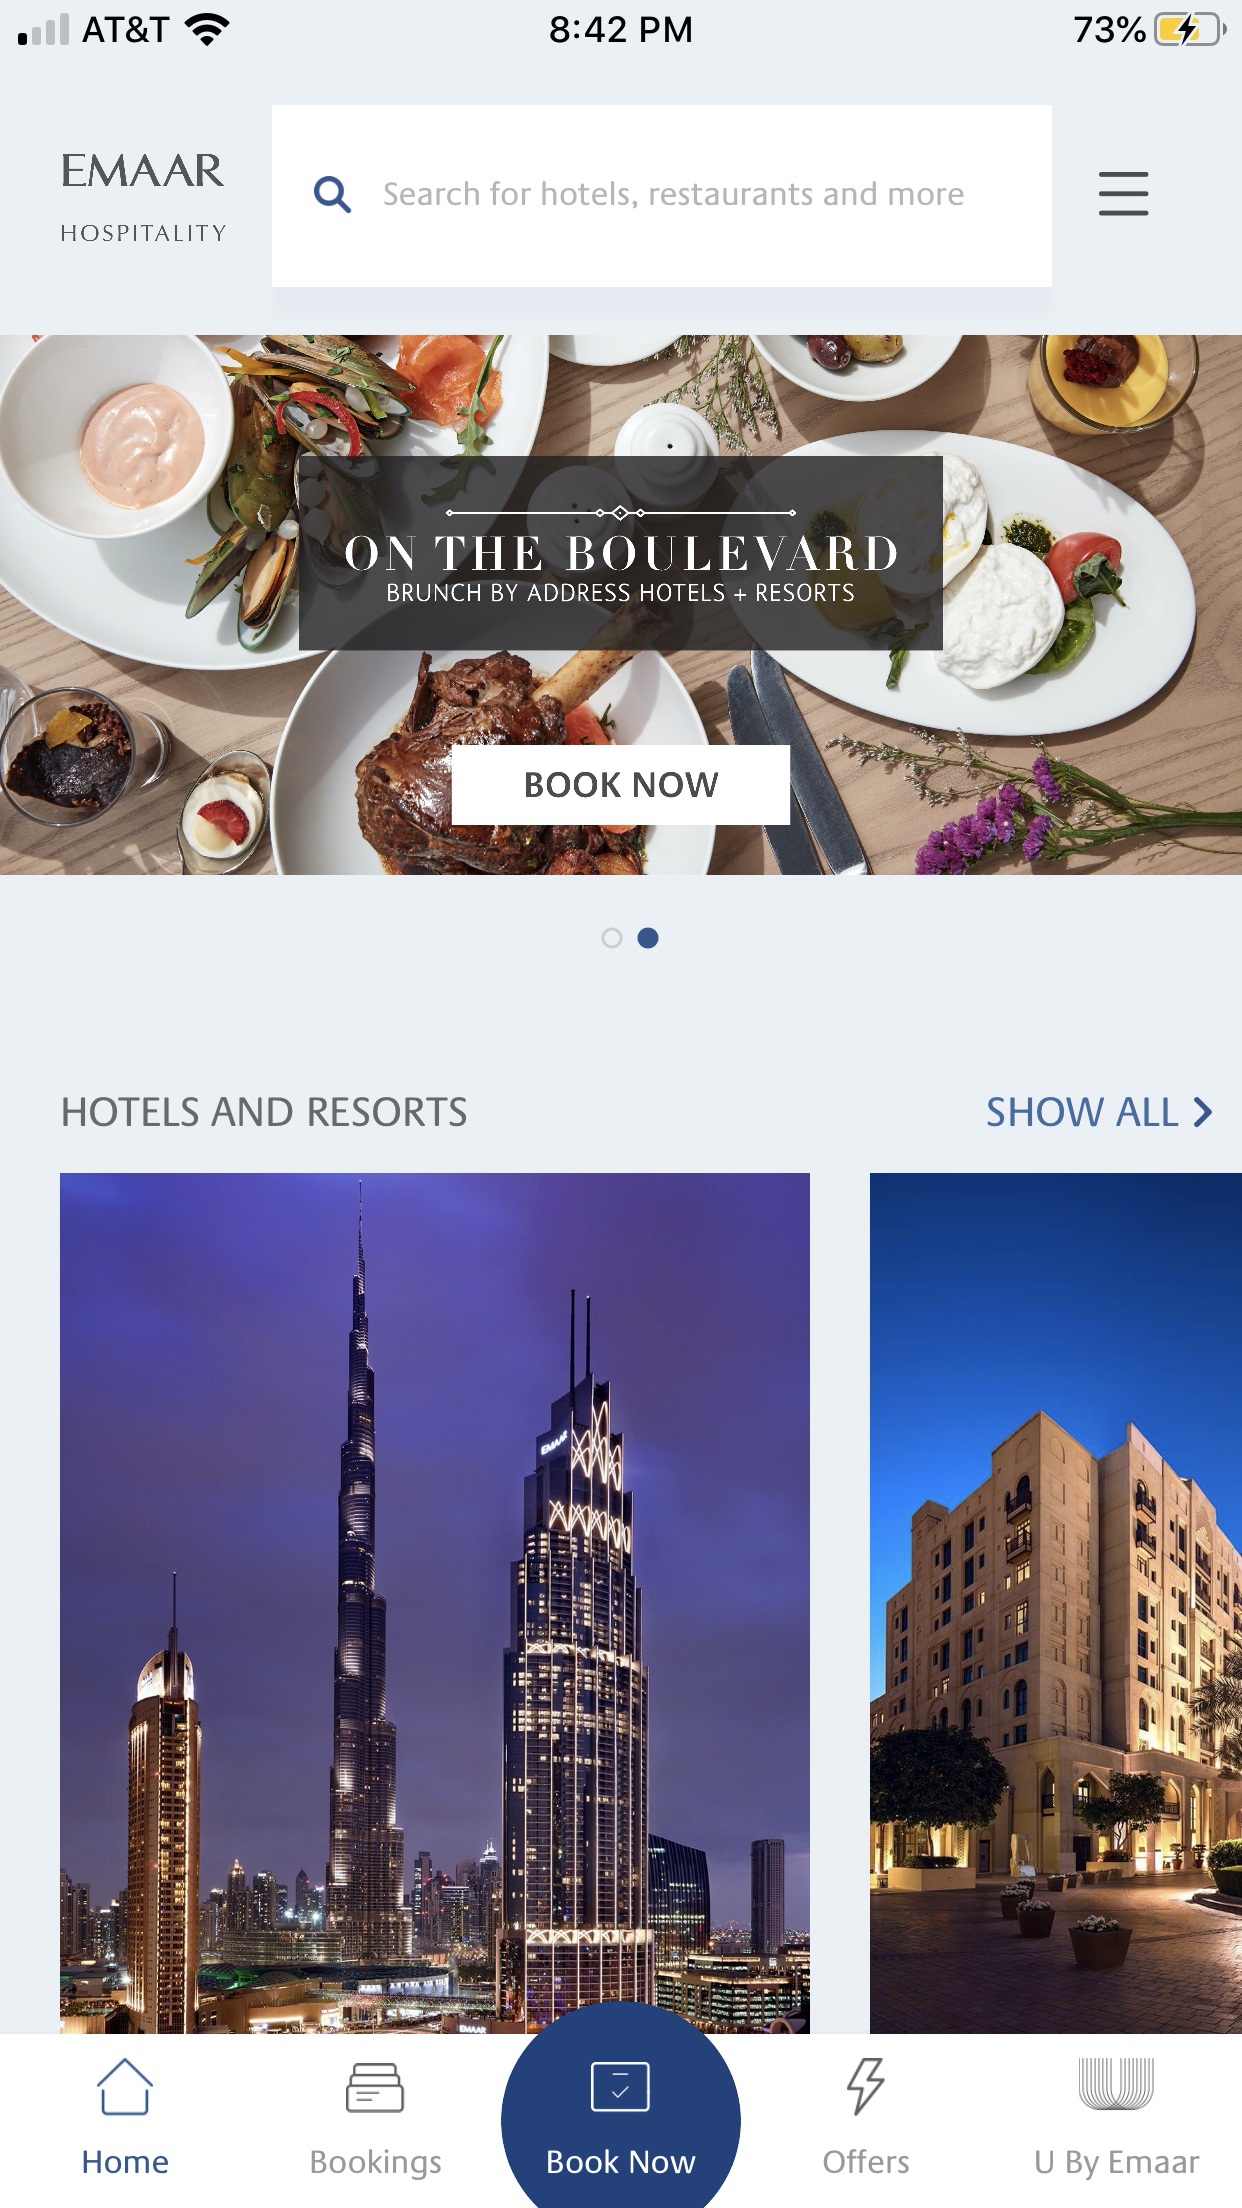EditText: (273, 106, 1052, 288)
Icon: (97, 2058, 155, 2115), (591, 2061, 651, 2112), (1099, 173, 1149, 217), (314, 177, 352, 214), (1193, 1096, 1212, 1128)
Image: (2, 337, 1242, 877), (61, 1174, 810, 2034), (870, 1174, 1242, 2034), (1080, 2058, 1154, 2111), (347, 2062, 406, 2112), (848, 2056, 886, 2115)
PageIndicator: (601, 927, 660, 949)
Text: (385, 182, 964, 209), (64, 1096, 467, 1128), (987, 1096, 1178, 1128), (64, 155, 224, 187), (1036, 2150, 1200, 2181), (311, 2147, 441, 2181), (547, 2149, 698, 2175), (64, 226, 227, 243), (823, 2149, 910, 2175), (83, 2150, 168, 2175)
TextButton: (452, 746, 790, 826)
UpperTaskBar: (2, 2, 1242, 49)
